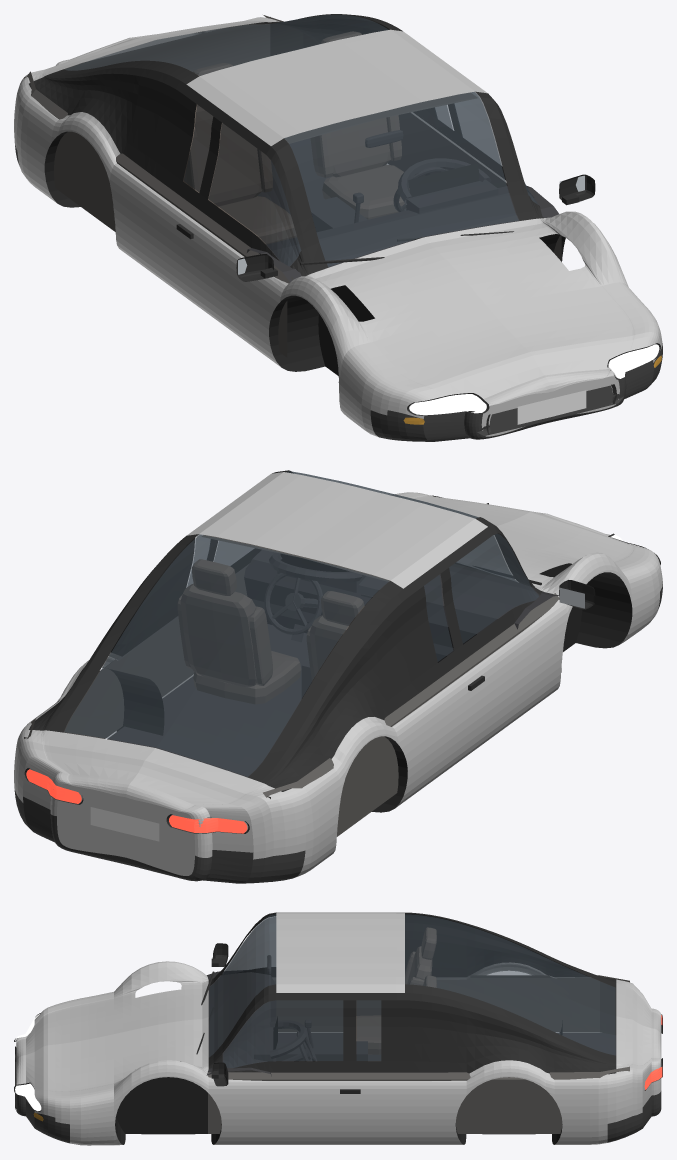
File: car_bauhaus.fbx
The picture shows the model from 3 angles, top to bottom: view 1: azimuth 30°, elevation 25°; view 2: azimuth 150°, elevation 25°; view 3: azimuth 270°, elevation 25°; orthographic projection. The views are drawn at different scales.
Visible parts, largest first — view 1: bauhaus__glass, bauhaus__hood, bauhaus__pillars, bauhaus__roof, bauhaus__cabin, bauhaus__seats, bauhaus__interior, bauhaus__doorR, bauhaus__quarterR, bauhaus__fenderFR, bauhaus__wells, bauhaus__seals (+10 smaller); view 2: bauhaus__glass, bauhaus__pillars, bauhaus__interior, bauhaus__roof, bauhaus__seats, bauhaus__quarterR, bauhaus__cabin, bauhaus__trunk, bauhaus__doorR, bauhaus__hood, bauhaus__rearPanel, bauhaus__wells (+7 smaller); view 3: bauhaus__glass, bauhaus__pillars, bauhaus__cabin, bauhaus__hood, bauhaus__quarterL, bauhaus__doorL, bauhaus__roof, bauhaus__interior, bauhaus__wells, bauhaus__fenderFL, bauhaus__seals, bauhaus__trunk (+7 smaller).
Boxes of the visible parts, x1,y1,x2,y2 form: bauhaus__glass: (65, 14, 538, 266); bauhaus__hood: (311, 211, 649, 406); bauhaus__pillars: (34, 14, 543, 276); bauhaus__roof: (186, 29, 487, 145); bauhaus__cabin: (24, 15, 561, 357); bauhaus__seats: (183, 31, 409, 244); bauhaus__interior: (247, 130, 558, 282); bauhaus__doorR: (158, 201, 284, 366); bauhaus__quarterR: (14, 74, 167, 283); bauhaus__fenderFR: (275, 276, 430, 437); bauhaus__wells: (44, 131, 565, 375); bauhaus__seals: (29, 21, 533, 260); bauhaus__glass: (65, 471, 538, 776); bauhaus__pillars: (33, 470, 544, 788); bauhaus__interior: (107, 550, 559, 777); bauhaus__roof: (187, 472, 487, 588); bauhaus__seats: (177, 559, 364, 704); bauhaus__quarterR: (205, 690, 452, 877); bauhaus__cabin: (24, 535, 561, 836); bauhaus__trunk: (27, 562, 559, 816); bauhaus__doorR: (443, 602, 566, 772); bauhaus__hood: (393, 492, 648, 587); bauhaus__rearPanel: (50, 774, 212, 875); bauhaus__wells: (102, 563, 632, 812); bauhaus__glass: (209, 914, 615, 1067); bauhaus__pillars: (208, 912, 616, 1071); bauhaus__cabin: (208, 975, 629, 1133); bauhaus__hood: (16, 962, 202, 1097); bauhaus__quarterL: (389, 1060, 651, 1144); bauhaus__doorL: (213, 1079, 388, 1144); bauhaus__roof: (276, 912, 404, 992); bauhaus__interior: (206, 955, 616, 1076); bauhaus__wells: (115, 1020, 562, 1144); bauhaus__fenderFL: (34, 1060, 213, 1145); bauhaus__seals: (228, 960, 616, 1074); bauhaus__trunk: (202, 973, 661, 1073).
Bounding box in the file's own units: 2.23 × 1.2 × 4.67.
